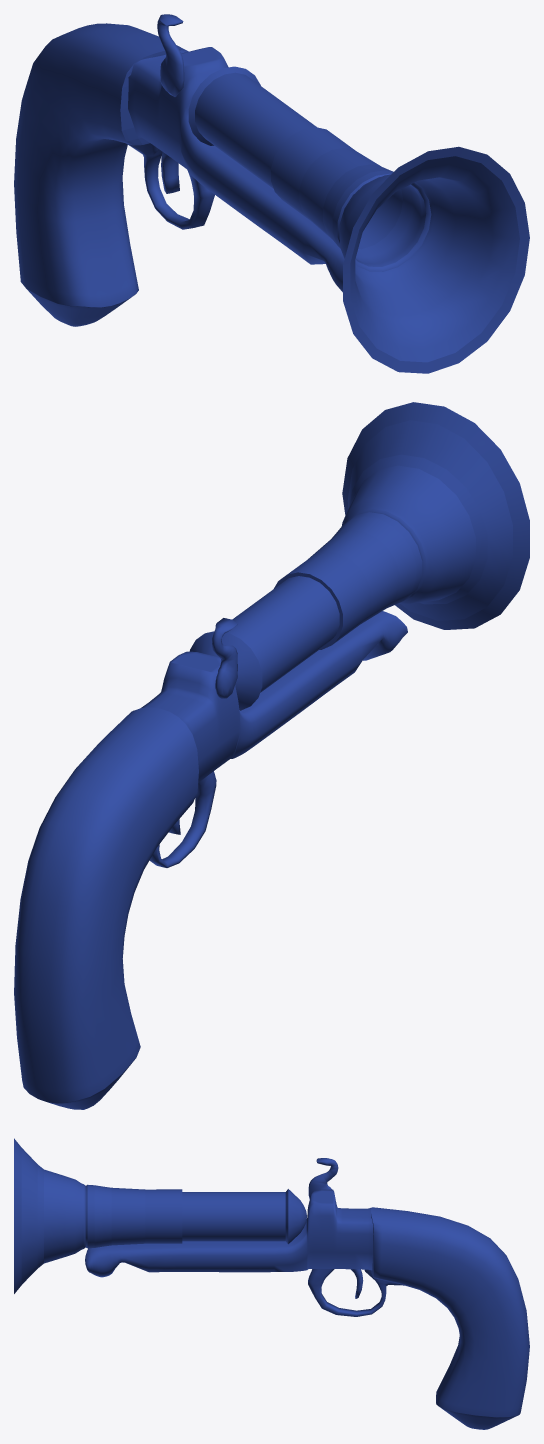
Rendered from Blunderbuss_Attached.FBX.
The picture shows the model from 3 angles, top to bottom: view 1: azimuth 30°, elevation 25°; view 2: azimuth 150°, elevation 25°; view 3: azimuth 270°, elevation 25°; orthographic projection. The views are drawn at different scales.
Parts seen in each view (by area): view 1: BlunderbussBase; view 2: BlunderbussBase; view 3: BlunderbussBase.
Part boxes in pixels (x1,y1,x2,y2): BlunderbussBase: (14, 14, 529, 373); BlunderbussBase: (14, 402, 529, 1109); BlunderbussBase: (14, 1138, 529, 1429).
Size of the model in its own units: 17.58 by 39.07 by 64.51.
